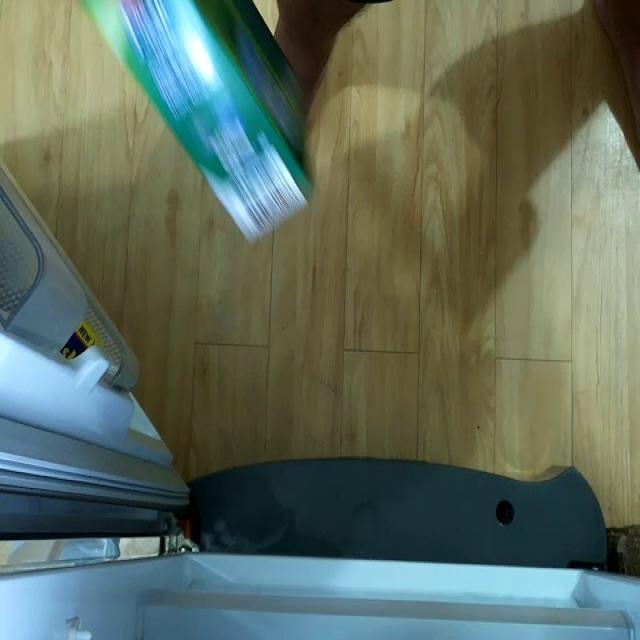milk: (96, 0, 309, 240)
